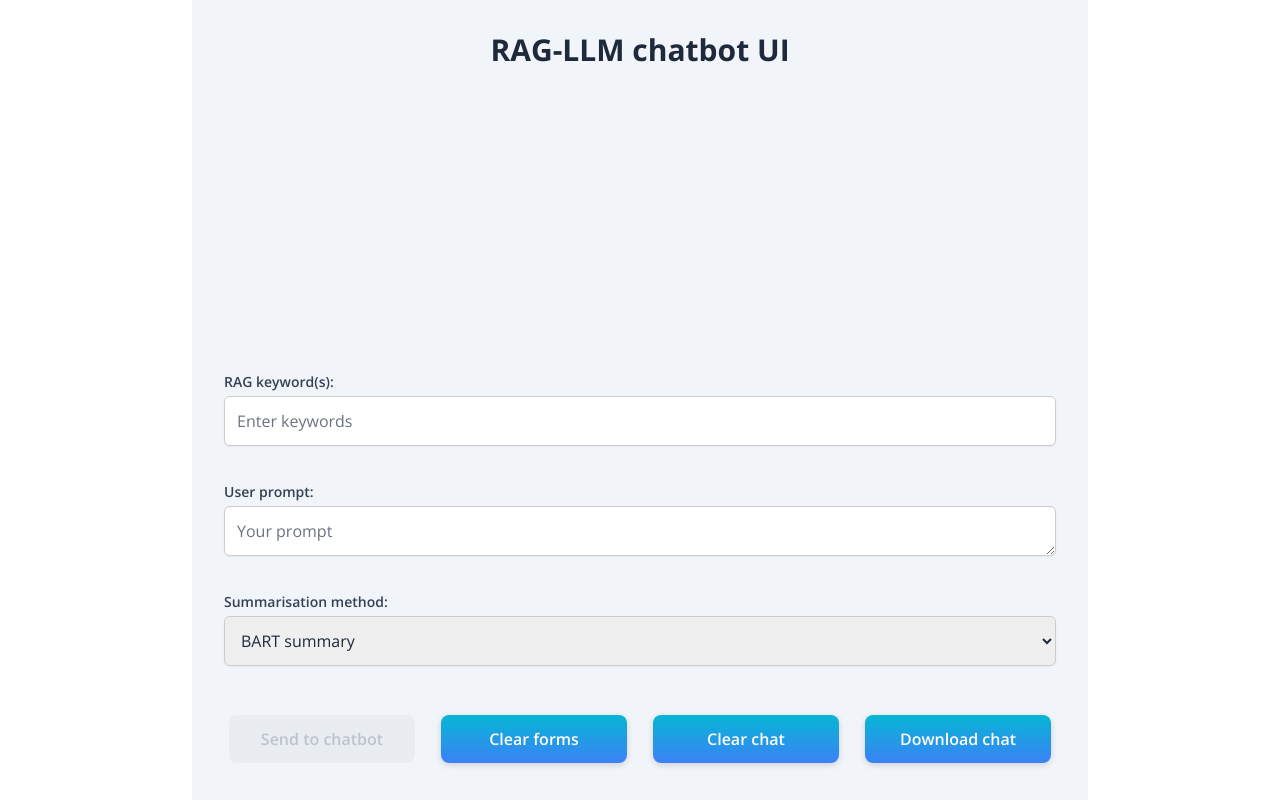
Test: ChatInterface Component › should update input values and display response
This screenshot has width=1280, height=800.
Type "test keywords" into the field labelled "RAG keyword(s):" at (640, 421), box [224,396,1056,446]
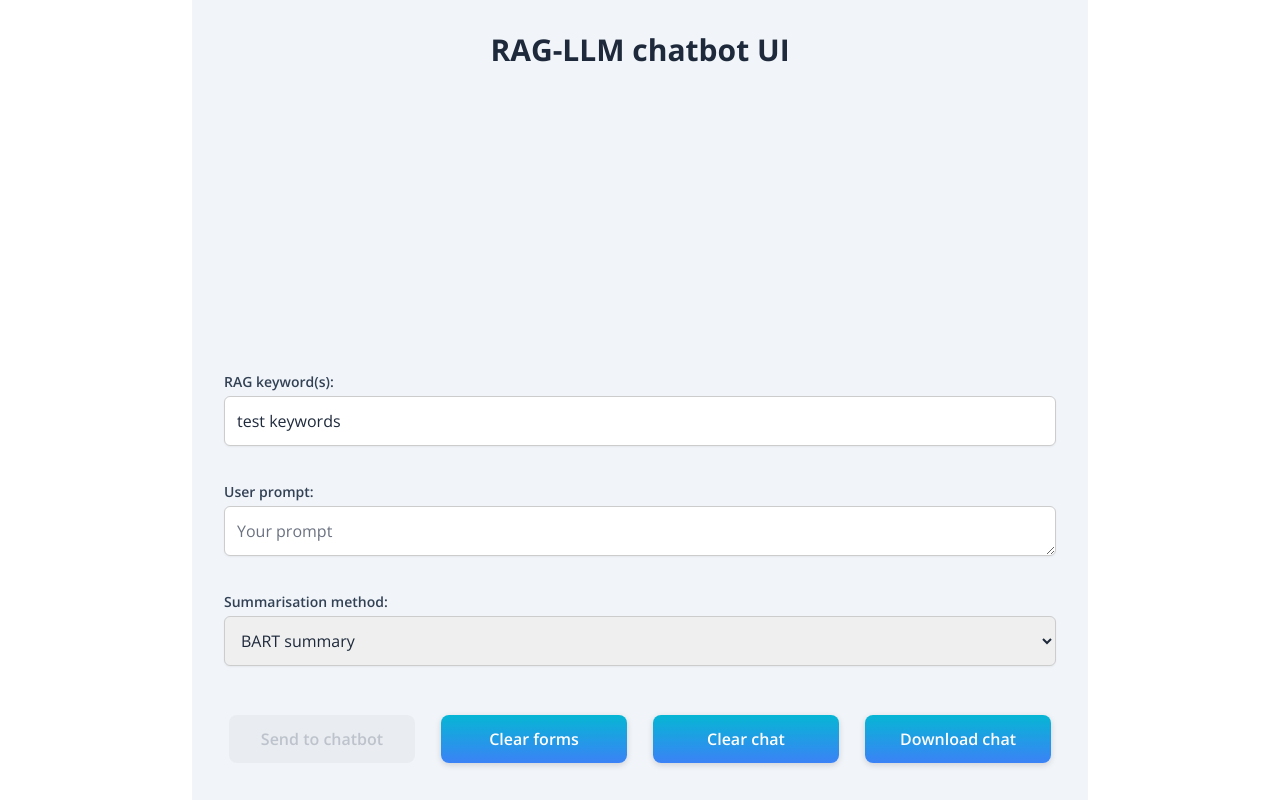
Type "test prompt" into the text box labelled "User prompt:" at (640, 531), box [224,506,1056,556]
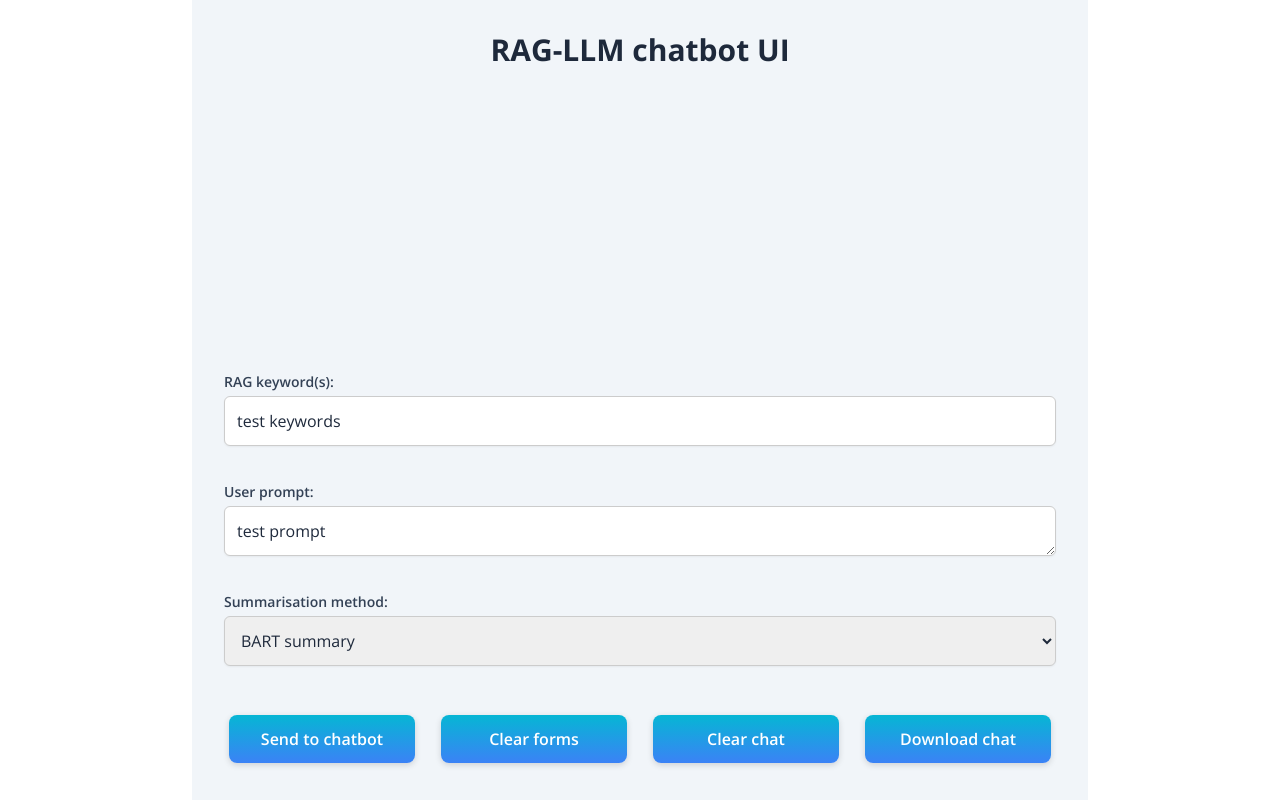
Click the button "Send to chatbot" at (322, 739), box [229,715,415,763]
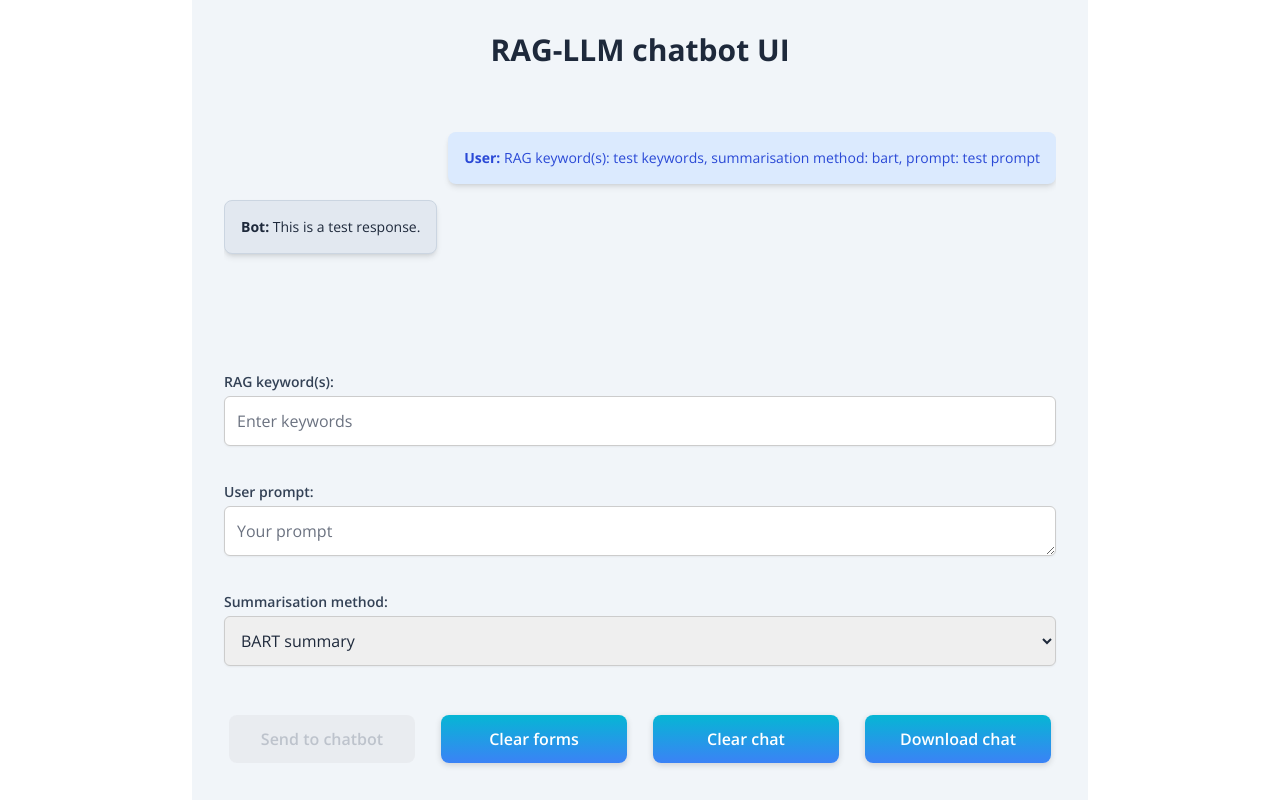
Expected: the text "Bot:" is shown, [241,217,269,236]
Expected: the text "This is a test response." is shown, [269,217,420,236]
